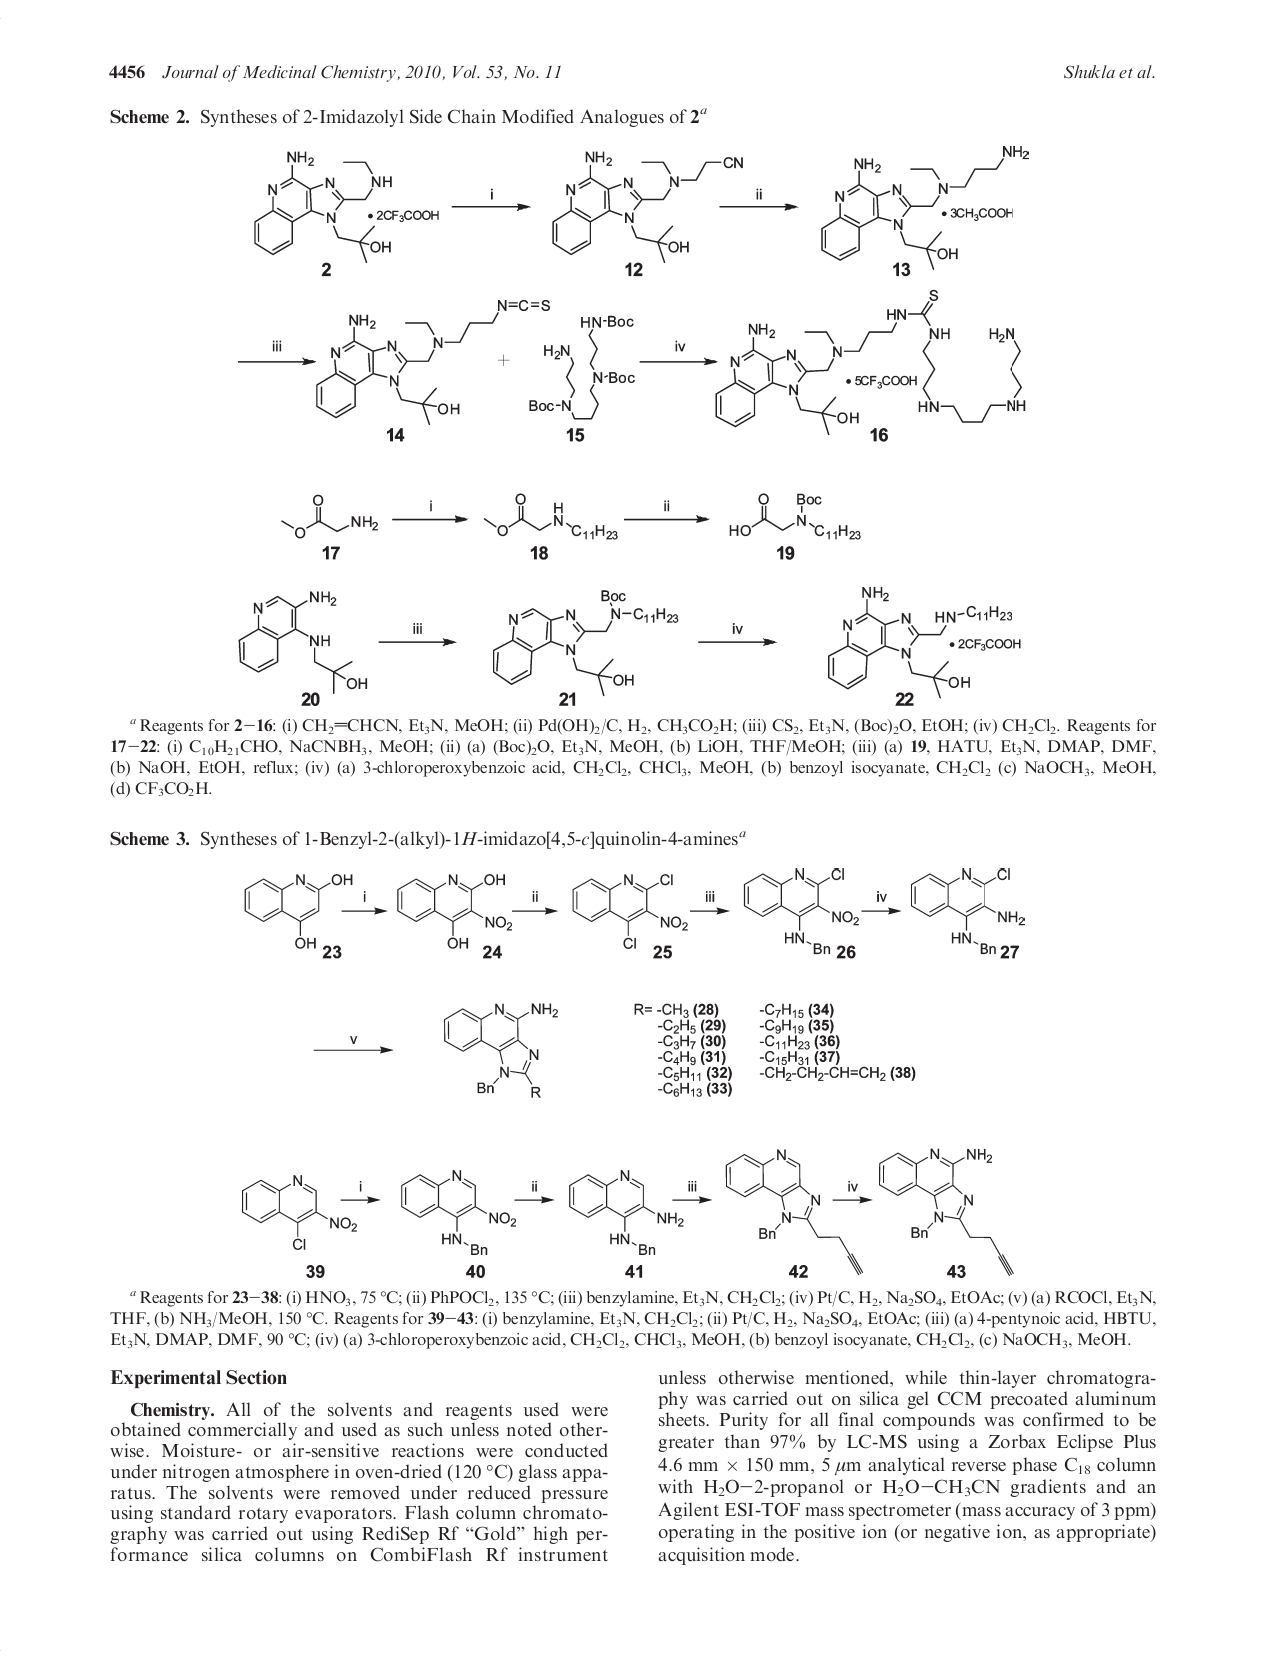exist_molecular: (715, 285, 1031, 444), (313, 297, 555, 426), (819, 142, 1031, 273), (827, 584, 1023, 700), (254, 148, 443, 267), (551, 152, 746, 263), (492, 590, 681, 697), (722, 1146, 867, 1278), (879, 1144, 1019, 1279), (237, 586, 374, 690), (527, 313, 642, 420), (908, 862, 1032, 955), (444, 1000, 559, 1100), (569, 1168, 688, 1258), (398, 1169, 515, 1258), (239, 1168, 360, 1253), (743, 867, 860, 955), (570, 870, 693, 952), (395, 871, 517, 950), (241, 872, 355, 951), (483, 492, 620, 541), (727, 493, 860, 543), (282, 492, 380, 543)
